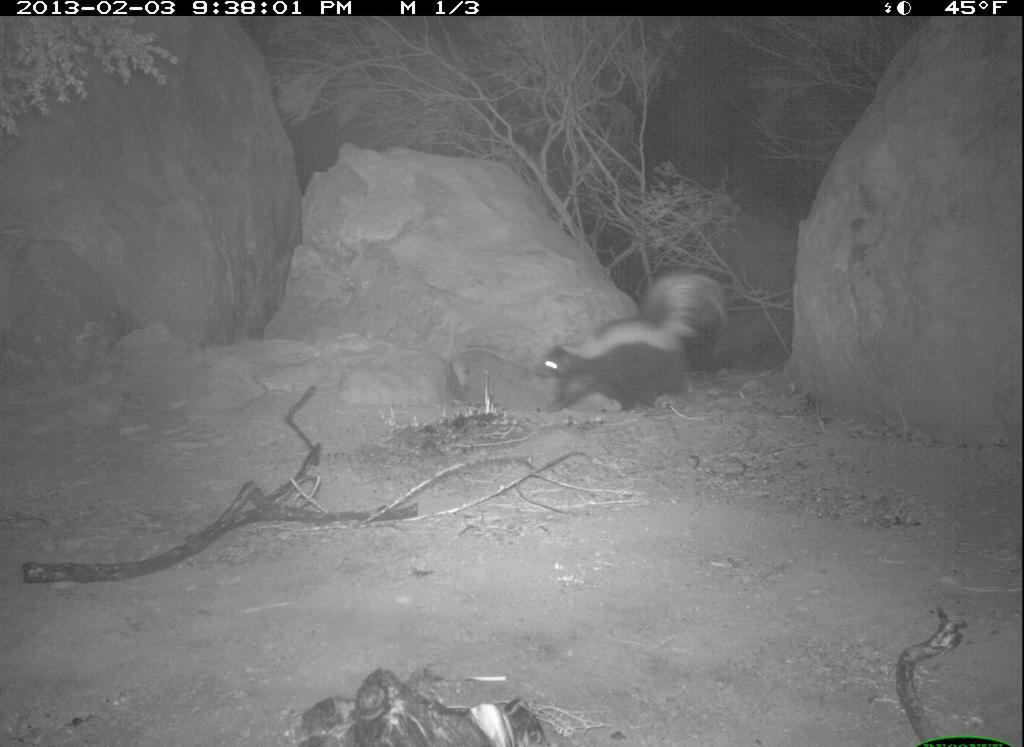skunk: (534, 267, 751, 417)
